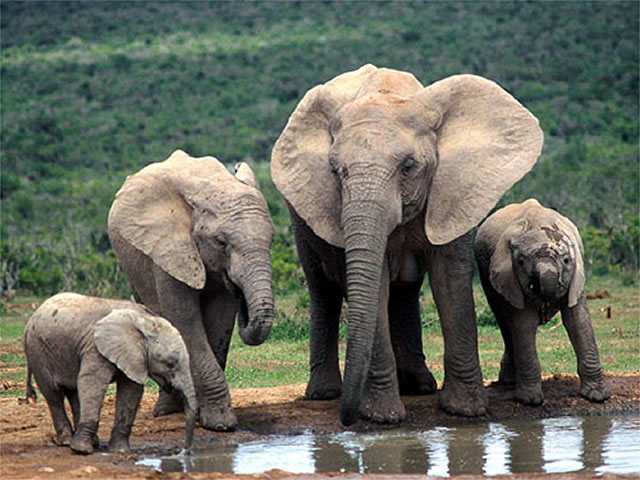elephant: (266, 49, 547, 433), (102, 143, 290, 436), (465, 184, 618, 415), (12, 288, 206, 464)
